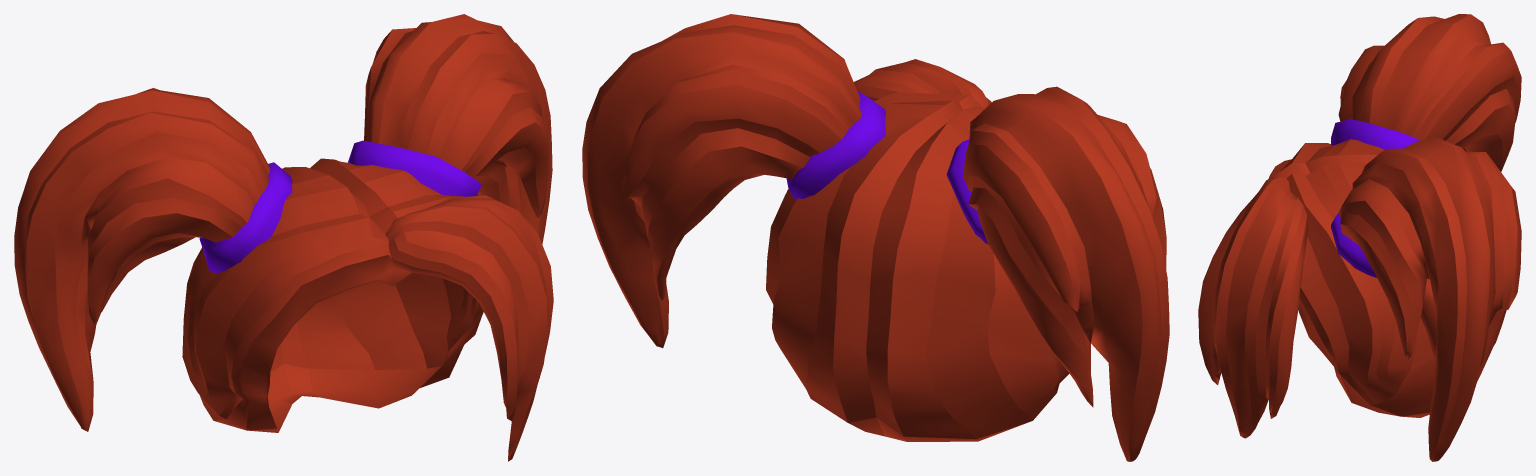
Rendered from Ponytails.fbx.
The picture shows the model from 3 angles, left to right: view 1: azimuth 30°, elevation 25°; view 2: azimuth 150°, elevation 25°; view 3: azimuth 270°, elevation 25°; orthographic projection. The views are drawn at different scales.
Parts seen in each view (by area): view 1: pigtails; view 2: pigtails; view 3: pigtails.
Part boxes in pixels (x1,y1,x2,y2): pigtails: (14, 14, 553, 461); pigtails: (582, 14, 1169, 461); pigtails: (1198, 14, 1521, 461).
Bounding box in the file's own units: 1.05 × 0.6578 × 0.6245.
